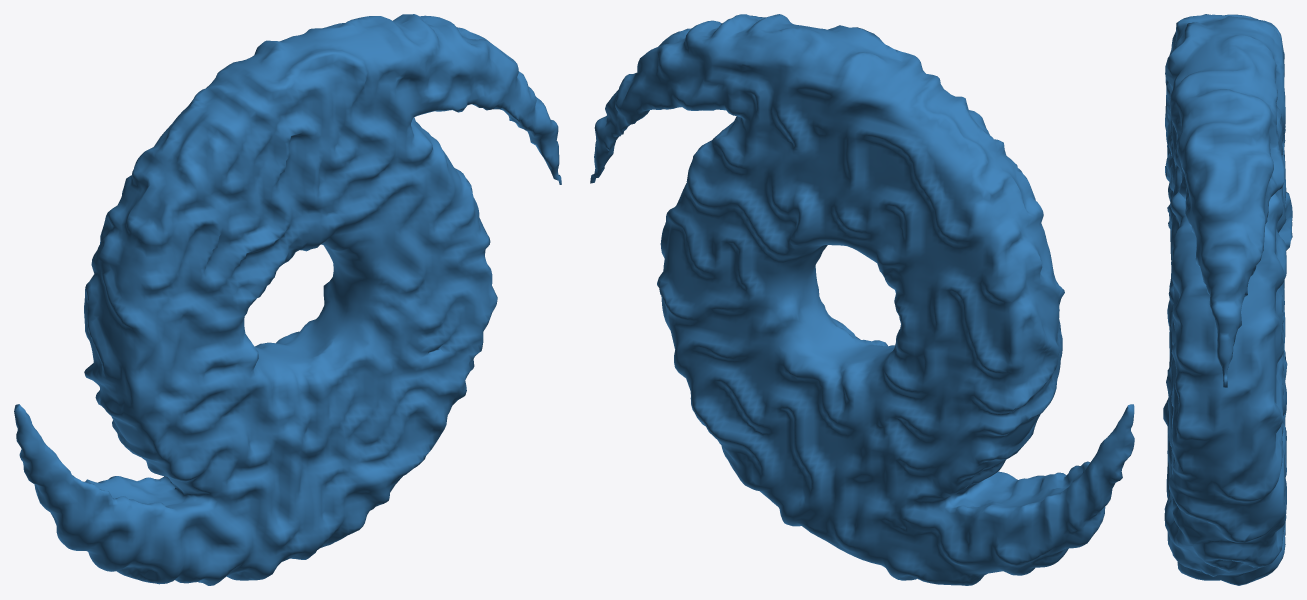
File: newmodel.glb
The picture shows the model from 3 angles, left to right: view 1: azimuth 30°, elevation 25°; view 2: azimuth 150°, elevation 25°; view 3: azimuth 270°, elevation 25°; orthographic projection. The views are drawn at different scales.
Visible parts, largest first — view 1: Curve.006; view 2: Curve.006; view 3: Curve.006.
Part boxes in pixels (x1,y1,x2,y2): Curve.006: [14, 14, 561, 585]; Curve.006: [590, 14, 1134, 585]; Curve.006: [1163, 14, 1292, 585].
Bounding box in the file's own units: 26.95 × 24.66 × 5.04.
